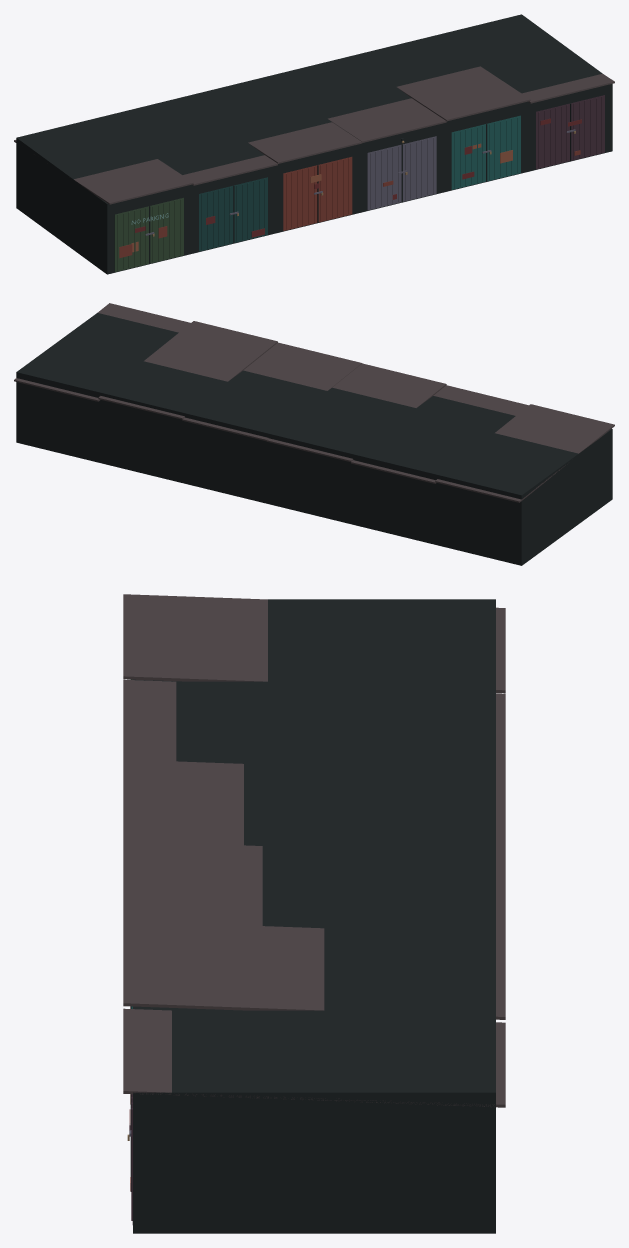
File: garaje.glb
The picture shows the model from 3 angles, top to bottom: view 1: azimuth 30°, elevation 25°; view 2: azimuth 150°, elevation 25°; view 3: azimuth 270°, elevation 25°; orthographic projection. The views are drawn at different scales.
Parts seen in each view (by area): view 1: Coliziune, Garaje; view 2: Coliziune, Garaje; view 3: Coliziune, Garaje.
Boxes of the visible parts, left/top/right/bottom form: Coliziune: left=16, top=14, right=612, bottom=274; Garaje: left=14, top=66, right=614, bottom=271; Coliziune: left=16, top=313, right=612, bottom=565; Garaje: left=14, top=303, right=614, bottom=502; Coliziune: left=133, top=599, right=495, bottom=1233; Garaje: left=123, top=594, right=505, bottom=1224.
Size of the model in its own units: 18 by 2.52 by 5.9.
